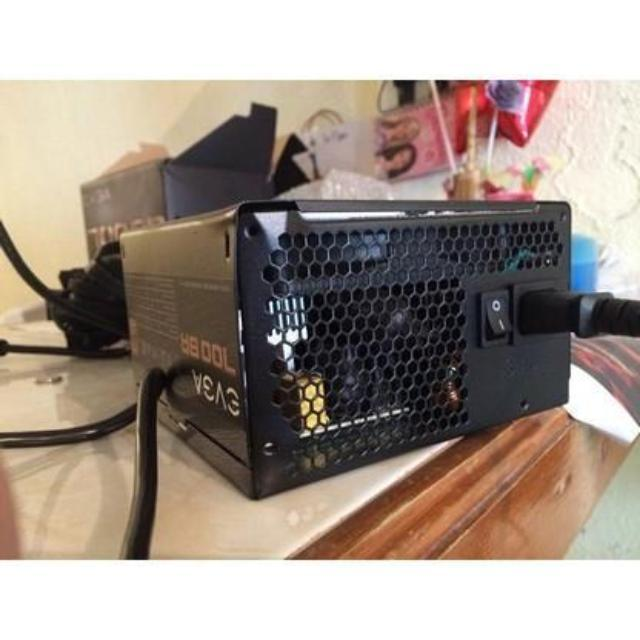PSU: (110, 197, 584, 511)
